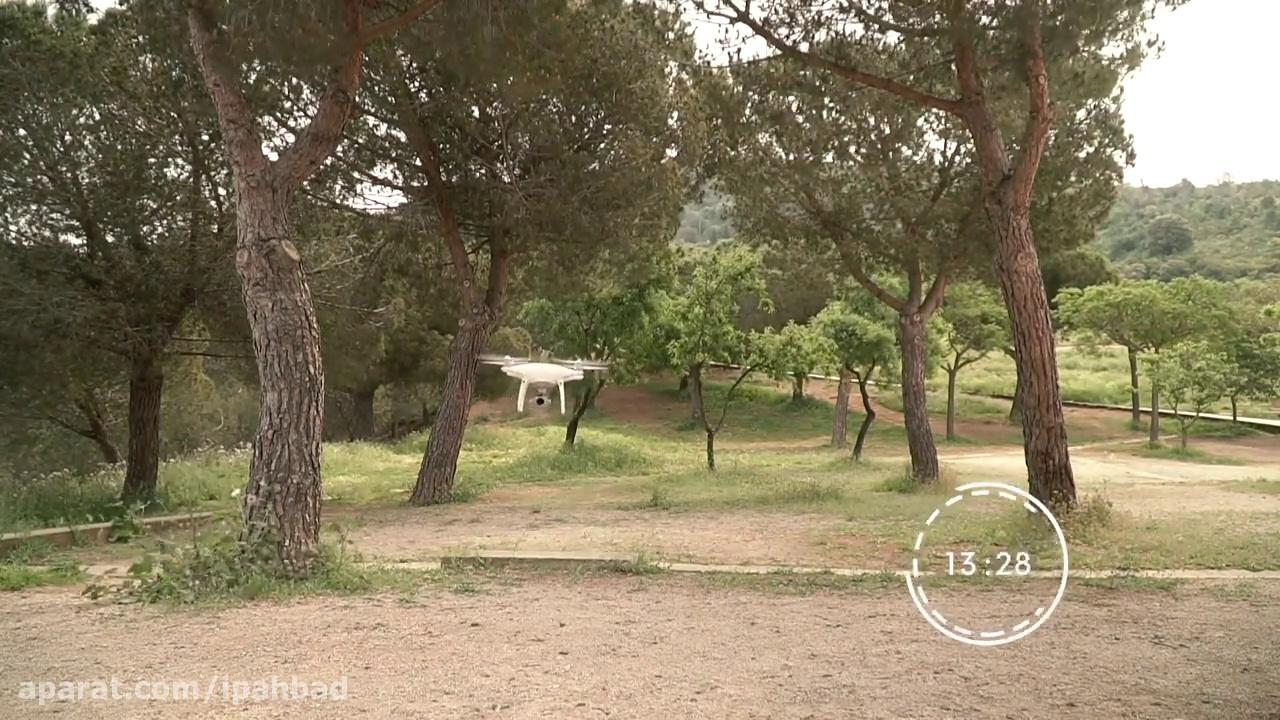drone: (476, 347, 613, 412)
